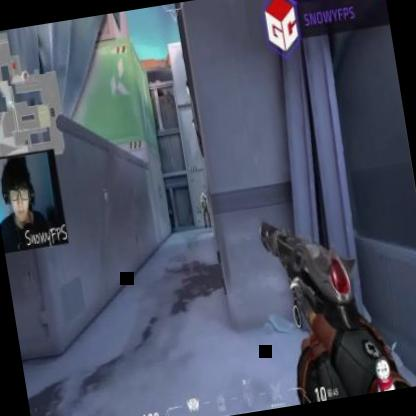enemy: (198, 191, 212, 228)
enemy_head: (200, 190, 204, 197)
